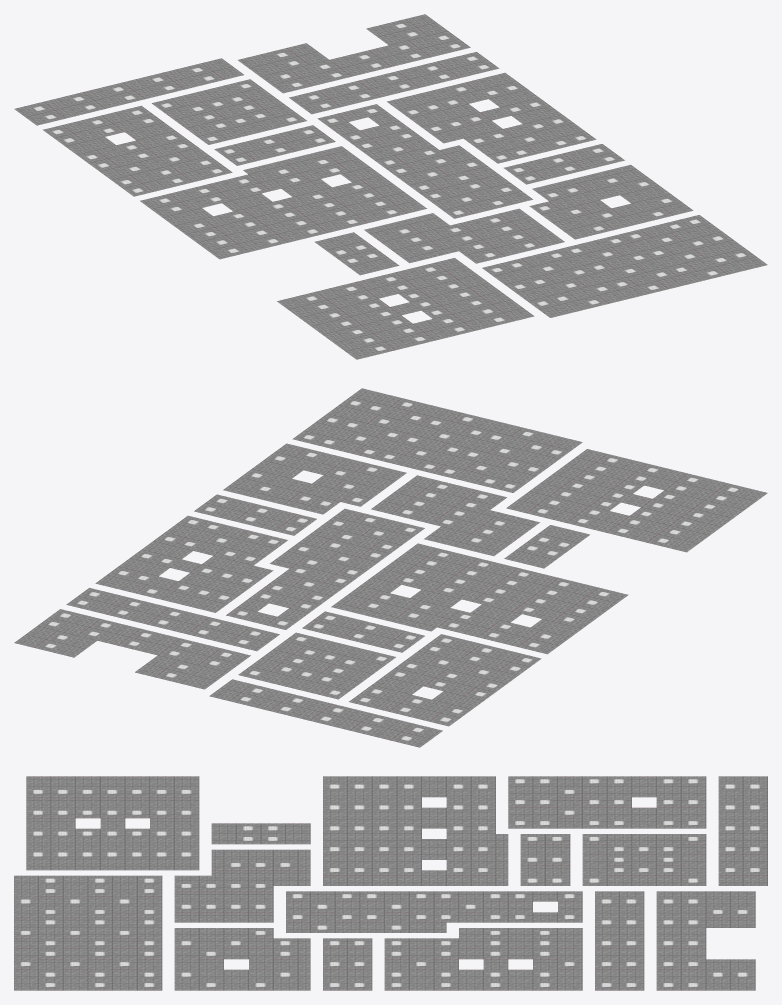
File: DeathFloorCeilingFix.fbx
3 views of the same model, one above another, from view 1: azimuth 30°, elevation 25°; view 2: azimuth 150°, elevation 25°; view 3: azimuth 270°, elevation 25° (orthographic). The views are drawn at different scales.
Parts seen in each view (by area): view 1: NorthOfficeCeil, SouthWestOfficeCeil, NorthWestOfficeCeil, A_WorkOfficeCeil, A_LongOfficeCeil, MonkeyBusinessCeil, A_LeasureRoomCeil, CursedCornerCeil, RelaxoRoomCeil, MeetingsRoomCeil, LongBigCorridorCeil, A_CorridorCeil (+3 smaller); view 2: NorthOfficeCeil, SouthWestOfficeCeil, NorthWestOfficeCeil, A_WorkOfficeCeil, A_LongOfficeCeil, MonkeyBusinessCeil, A_LeasureRoomCeil, CursedCornerCeil, RelaxoRoomCeil, MeetingsRoomCeil, LongBigCorridorCeil, A_CorridorCeil (+3 smaller); view 3: NorthOfficeCeil, SouthWestOfficeCeil, NorthWestOfficeCeil, A_WorkOfficeCeil, A_LongOfficeCeil, MonkeyBusinessCeil, A_LeasureRoomCeil, CursedCornerCeil, RelaxoRoomCeil, MeetingsRoomCeil, LongBigCorridorCeil, A_CorridorCeil (+3 smaller).
Boxes of the visible parts, x1,y1,x2,y2 form: NorthOfficeCeil: [140, 146, 426, 259]; SouthWestOfficeCeil: [482, 215, 767, 317]; NorthWestOfficeCeil: [277, 258, 534, 359]; A_WorkOfficeCeil: [387, 73, 596, 163]; A_LongOfficeCeil: [317, 104, 532, 218]; MonkeyBusinessCeil: [43, 105, 232, 196]; A_LeasureRoomCeil: [238, 14, 470, 93]; CursedCornerCeil: [529, 164, 693, 239]; RelaxoRoomCeil: [364, 208, 564, 263]; MeetingsRoomCeil: [152, 79, 306, 144]; LongBigCorridorCeil: [14, 58, 243, 125]; A_CorridorCeil: [289, 52, 499, 114]; NorthOfficeCeil: [331, 543, 628, 654]; SouthWestOfficeCeil: [292, 388, 582, 492]; NorthWestOfficeCeil: [506, 449, 767, 552]; A_WorkOfficeCeil: [95, 515, 287, 612]; A_LongOfficeCeil: [226, 508, 424, 629]; MonkeyBusinessCeil: [349, 634, 541, 726]; A_LeasureRoomCeil: [14, 609, 250, 689]; CursedCornerCeil: [223, 443, 406, 514]; RelaxoRoomCeil: [371, 475, 539, 556]; MeetingsRoomCeil: [238, 632, 395, 699]; LongBigCorridorCeil: [209, 679, 442, 747]; A_CorridorCeil: [66, 588, 279, 651]; NorthOfficeCeil: [323, 776, 508, 885]; SouthWestOfficeCeil: [14, 875, 162, 990]; NorthWestOfficeCeil: [26, 776, 199, 870]; A_WorkOfficeCeil: [384, 928, 582, 990]; A_LongOfficeCeil: [286, 891, 582, 932]; MonkeyBusinessCeil: [508, 776, 706, 828]; A_LeasureRoomCeil: [656, 891, 755, 990]; CursedCornerCeil: [174, 928, 310, 990]; RelaxoRoomCeil: [174, 849, 310, 922]; MeetingsRoomCeil: [582, 834, 706, 885]; LongBigCorridorCeil: [718, 776, 767, 885]; A_CorridorCeil: [595, 891, 644, 990].
Bounding box in the file's own units: 41 × 5.76e-06 × 61.
